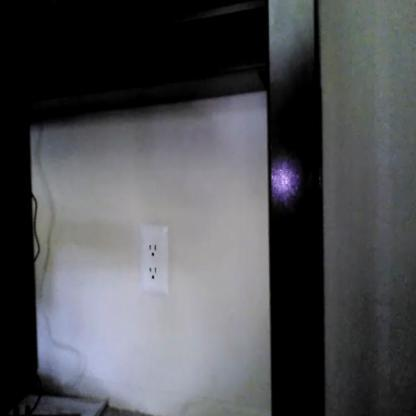OUTLET: (139, 222, 170, 294)
